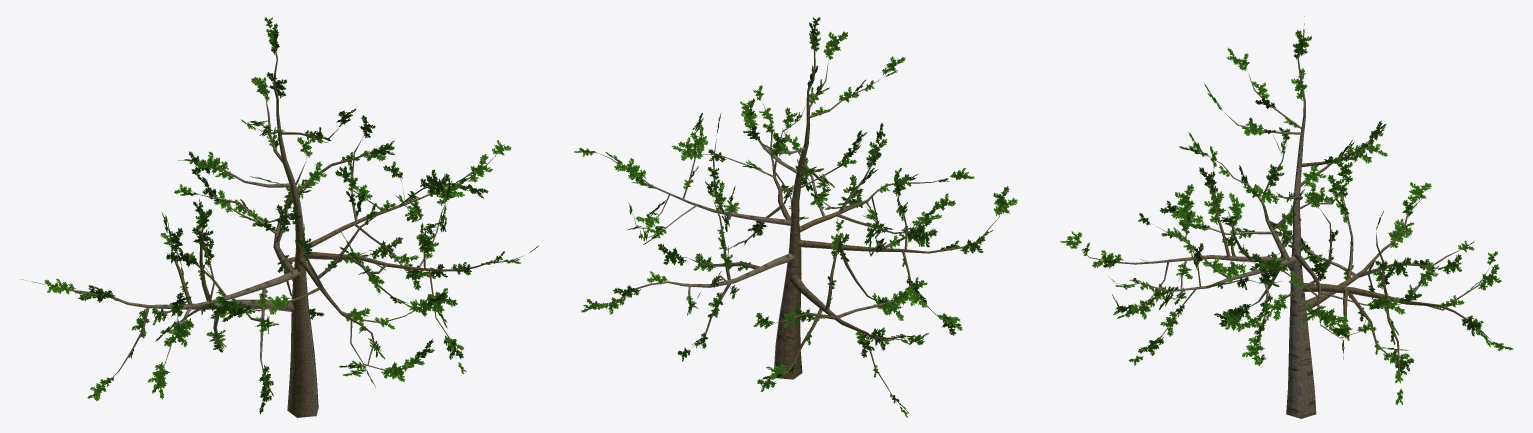
Rendered from gulmohar.glb.
3 renders of one model, left to right at view 1: azimuth 30°, elevation 25°; view 2: azimuth 150°, elevation 25°; view 3: azimuth 270°, elevation 25°, orthographic. The views are drawn at different scales.
Size of the model in its own units: 5.12 by 4.44 by 4.93.
2 materials, 2 textured.
